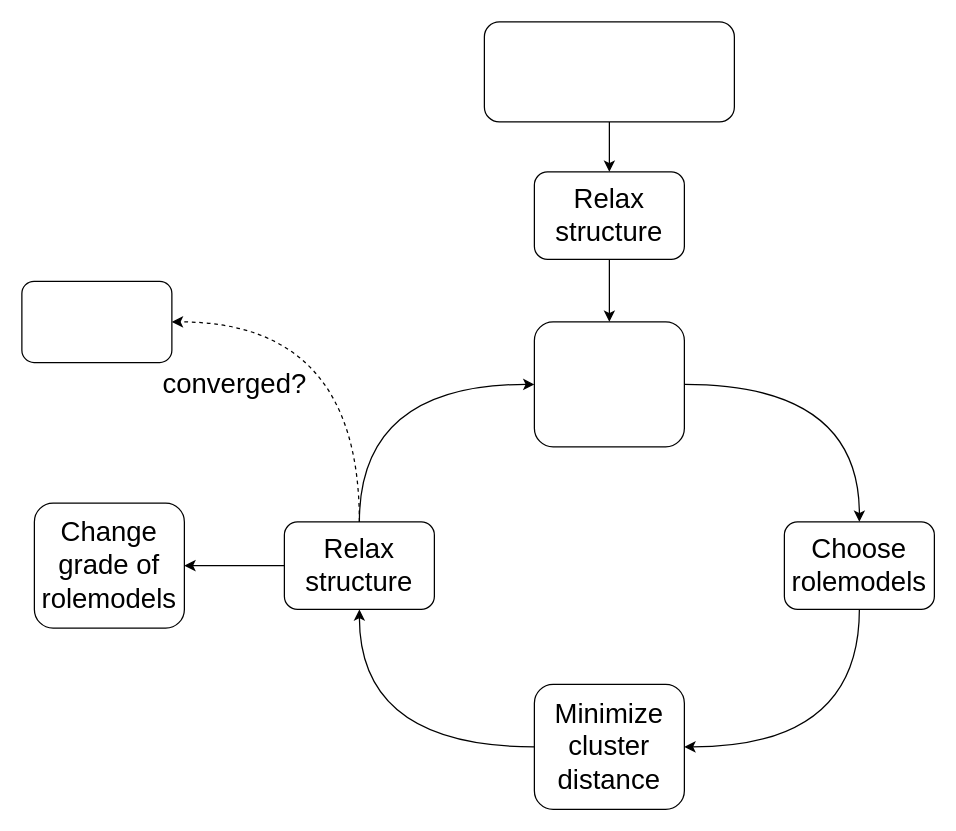
The diagram is 956 pixels wide and 831 high, and some of its shapes have lost their labels. Each missing label, with the centre of its shape:
"Cluster feature-vectors" goes at (x=608, y=384).
"Generate starting structure" goes at (x=608, y=71).
"Terminate" goes at (x=96, y=321).
